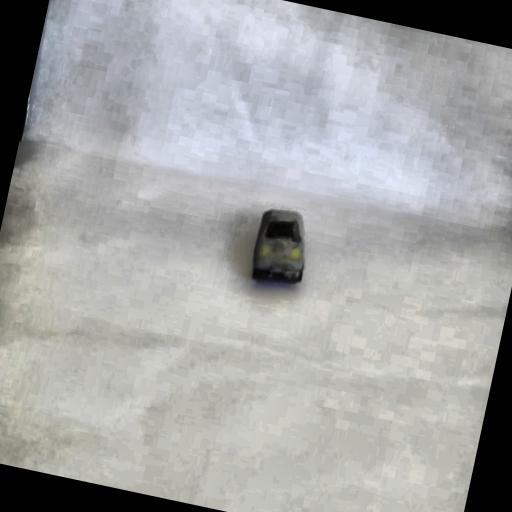normal_car: (241, 201, 319, 296)
